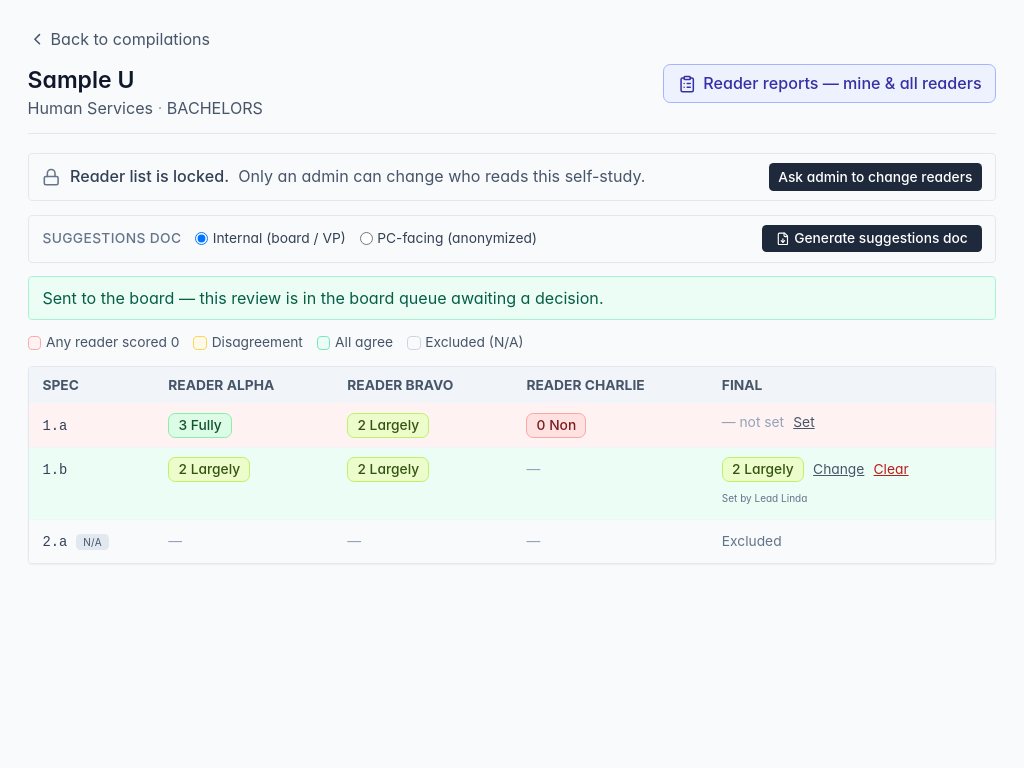
Scenario: CompilationTabView › CR-022 — shows the locked box and reveals the reason form on open
This screenshot has width=1024, height=768.
Check: the element with test id "assignment-change-box" is shown, box [28,153,996,201]
Click the button with test id "assignment-change-open" at (875, 177), box [769,163,982,191]
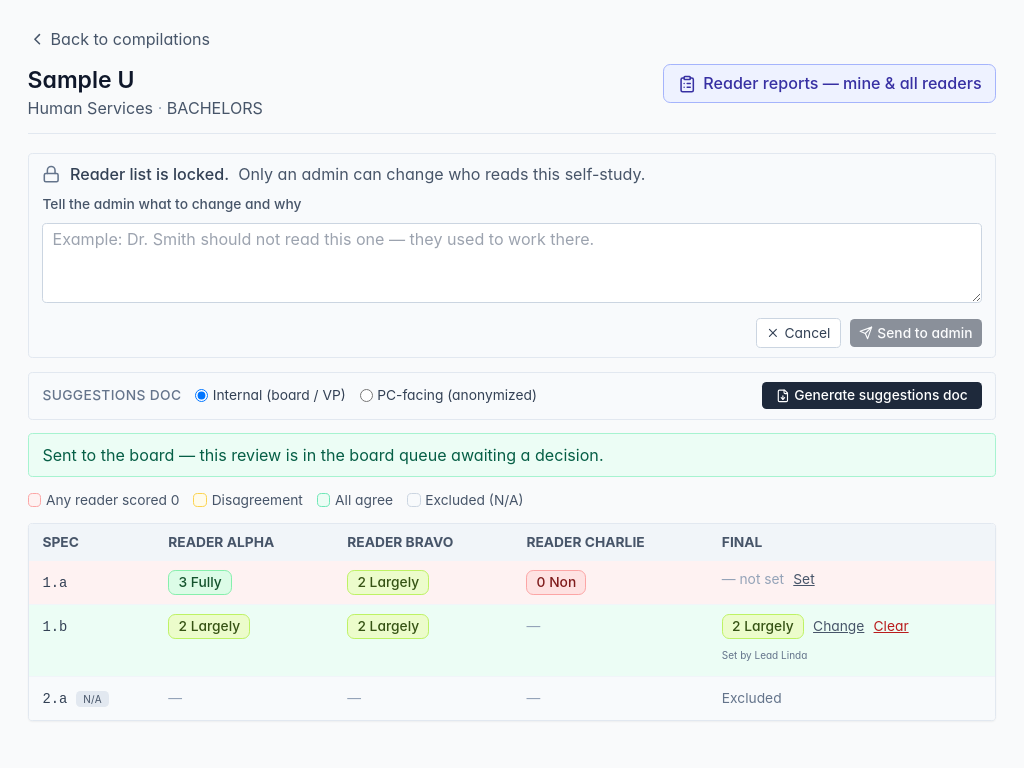
Check: the text box with test id "assignment-change-reason" is shown, box [42,223,982,303]
Check: the button with test id "assignment-change-send" is disabled, box [850,319,982,347]
